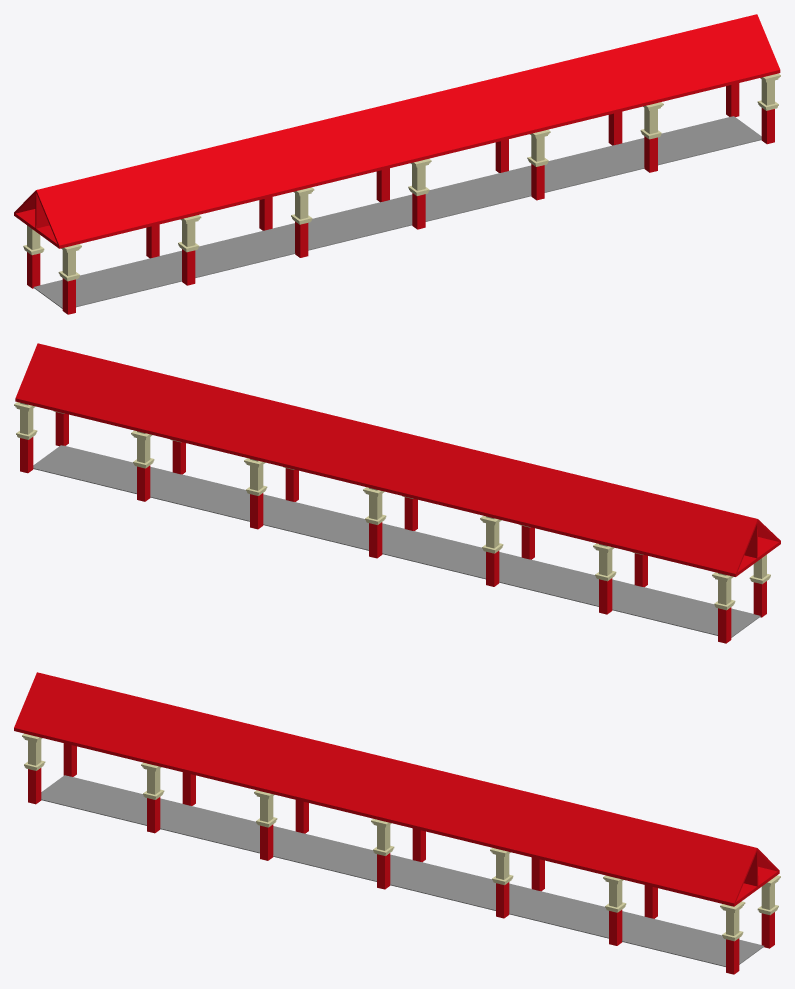
File: walkingshed2.fbx
The picture shows the model from 3 angles, top to bottom: view 1: azimuth 30°, elevation 25°; view 2: azimuth 150°, elevation 25°; view 3: azimuth 330°, elevation 25°; orthographic projection.
Parts seen in each view (by area): view 1: Cube.003, Cube.002, Cube.004, Cube.001; view 2: Cube.002, Cube.003, Cube.004, Cube.001; view 3: Cube.002, Cube.003, Cube.001, Cube.004.
Boxes of the visible parts, box(x1,y1,x2,y2) form: Cube.003: box(14, 99, 429, 248); Cube.002: box(386, 14, 780, 163); Cube.004: box(23, 159, 431, 314); Cube.001: box(381, 73, 780, 229); Cube.002: box(15, 343, 408, 491); Cube.003: box(366, 428, 780, 576); Cube.004: box(363, 487, 770, 643); Cube.001: box(14, 402, 417, 556); Cube.002: box(372, 757, 779, 906); Cube.003: box(14, 672, 397, 821); Cube.001: box(371, 819, 780, 974); Cube.004: box(22, 733, 416, 889).
Size of the model in its own units: 1838 by 274 by 202.
